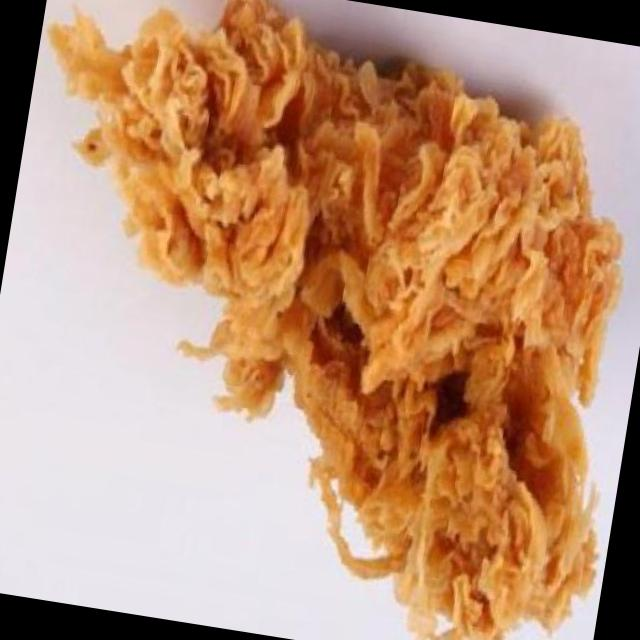Fried Chicken: (50, 0, 626, 640)
